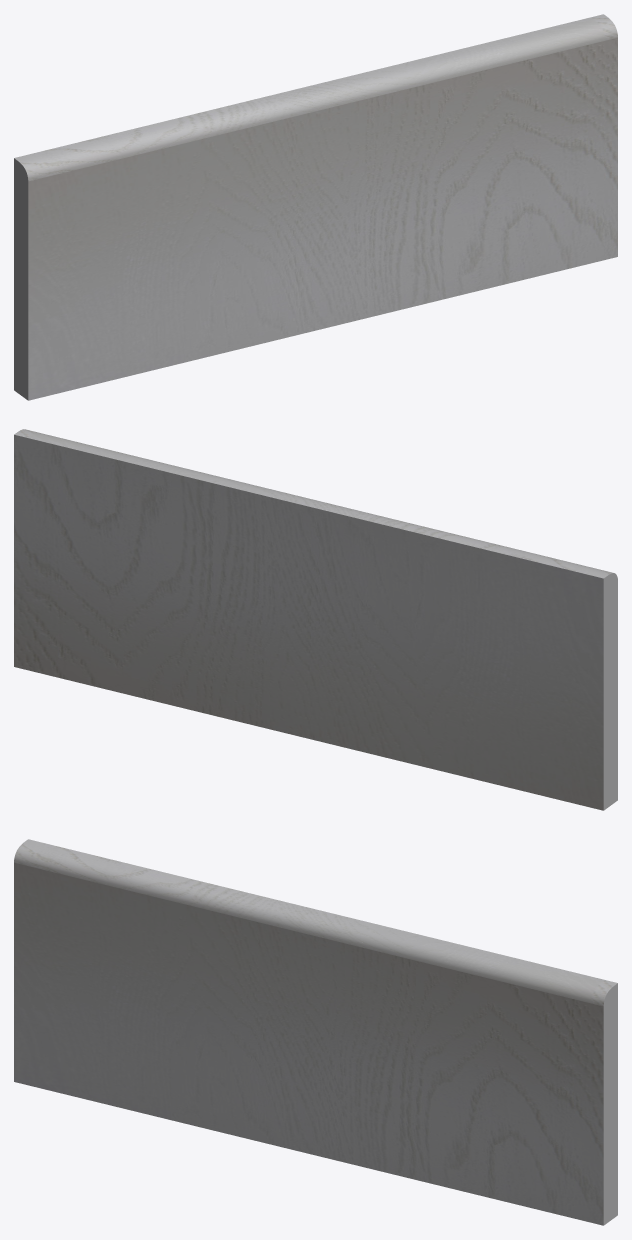
Rendered from baseboard.glb.
The picture shows the model from 3 angles, top to bottom: view 1: azimuth 30°, elevation 25°; view 2: azimuth 150°, elevation 25°; view 3: azimuth 330°, elevation 25°; orthographic projection.
Parts seen in each view (by area): view 1: Box001; view 2: Box001; view 3: Box001.
Boxes of the visible parts, left/top/right/bottom form: Box001: left=14, top=14, right=617, bottom=400; Box001: left=14, top=429, right=617, bottom=810; Box001: left=14, top=839, right=617, bottom=1225.
Bounding box in the file's own units: 599 × 225 × 25.1.
Materials: 1 (1 with a texture image).
